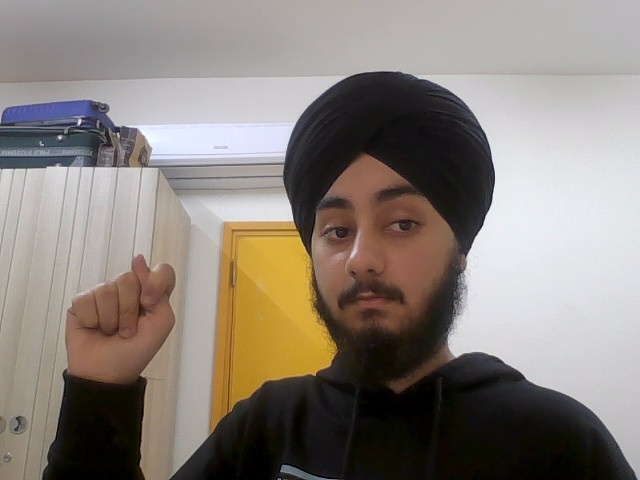Bathroom: (63, 251, 176, 376)
